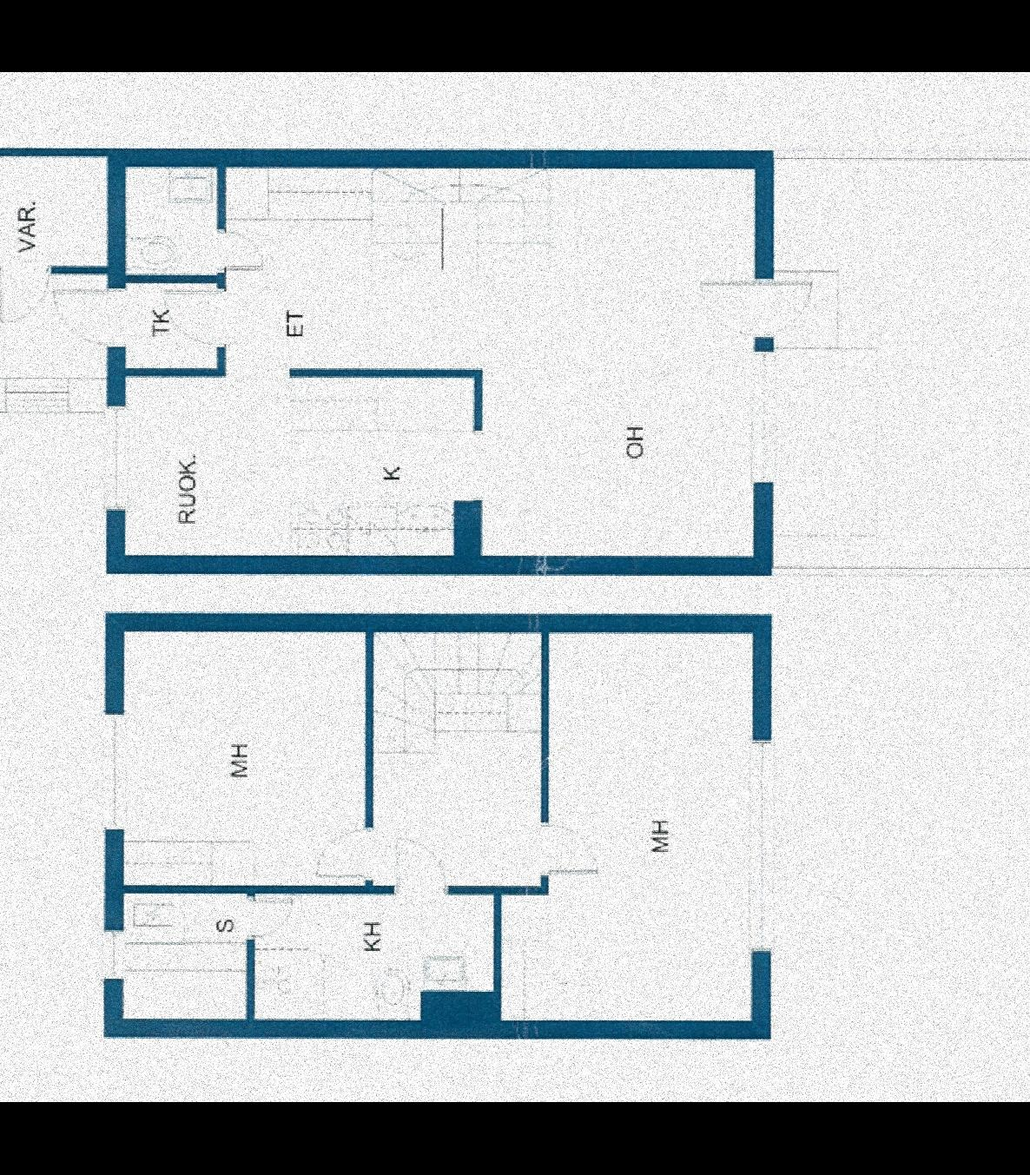door: (692, 276, 812, 343), (157, 284, 225, 354), (50, 286, 122, 352), (391, 836, 451, 894), (304, 832, 371, 879), (0, 266, 46, 332), (548, 825, 599, 879), (214, 234, 277, 277), (249, 897, 291, 941)
window: (753, 744, 777, 946), (753, 342, 771, 481), (105, 709, 125, 828), (110, 413, 125, 515), (99, 930, 121, 984)
zone: (127, 167, 756, 556), (770, 158, 1030, 570), (507, 623, 753, 1033), (125, 374, 477, 554), (125, 628, 363, 885), (379, 630, 542, 883), (258, 888, 495, 1016), (0, 267, 118, 410), (119, 894, 253, 1019), (0, 154, 109, 265), (127, 167, 218, 275), (127, 278, 224, 370)
